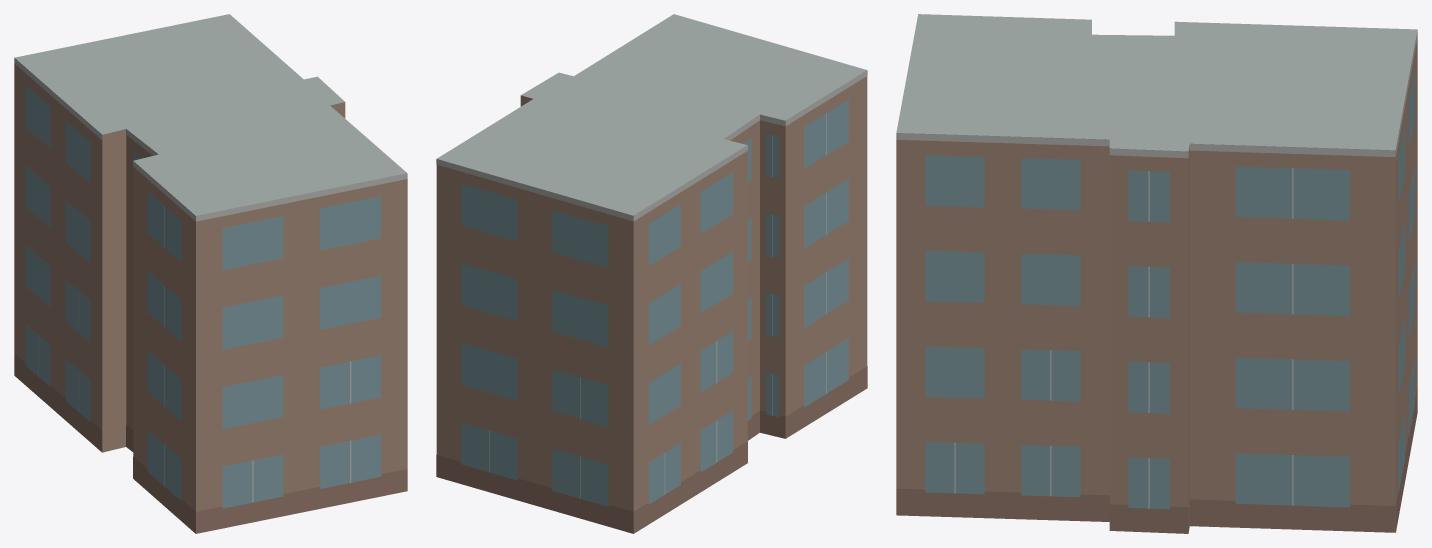
File: survey-upis-33015673.glb
3 views of the same model, side by side, from view 1: azimuth 30°, elevation 25°; view 2: azimuth 150°, elevation 25°; view 3: azimuth 270°, elevation 25° (orthographic). The views are drawn at different scales.
Parts seen in each view (by area): view 1: survey-upis-33015673.tmp; view 2: survey-upis-33015673.tmp; view 3: survey-upis-33015673.tmp.
Part boxes in pixels (left/top/right/bottom): survey-upis-33015673.tmp: left=14, top=14, right=407, bottom=533; survey-upis-33015673.tmp: left=436, top=14, right=867, bottom=533; survey-upis-33015673.tmp: left=896, top=14, right=1417, bottom=533.
Bounding box in the file's own units: 10.49 × 13.6 × 16.81.
